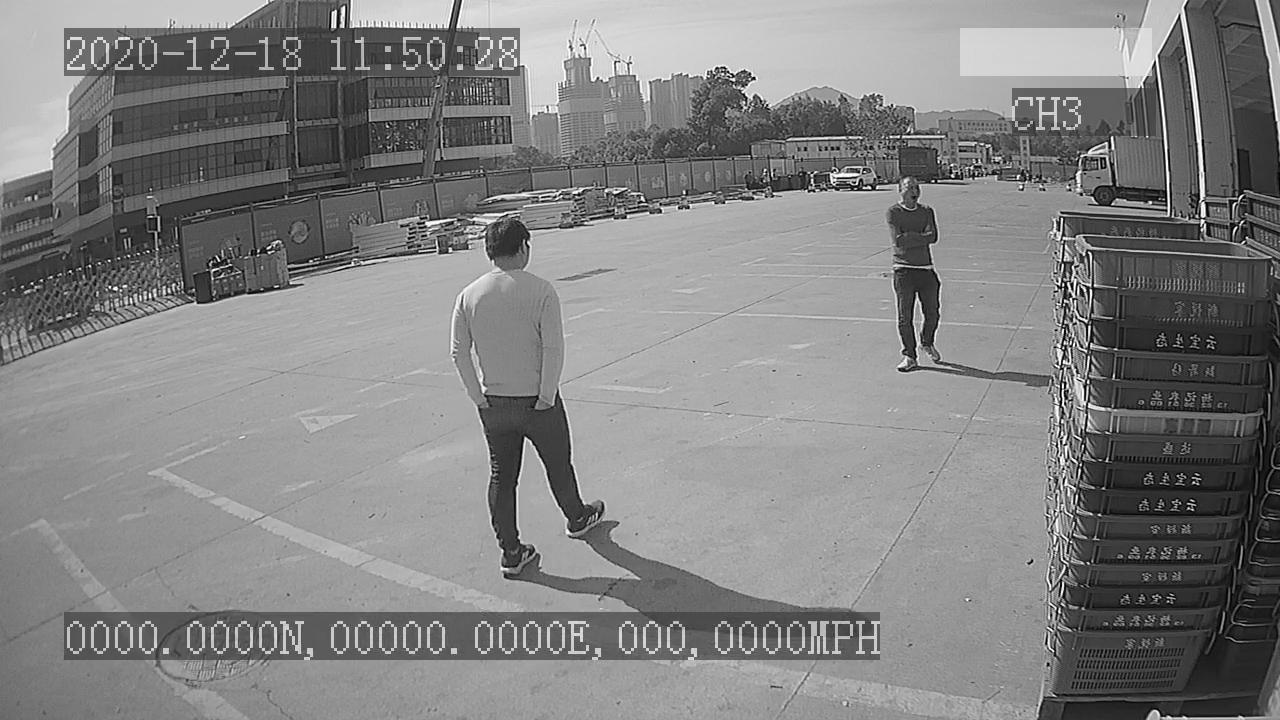person: (447, 215, 606, 583), (881, 172, 951, 378)
